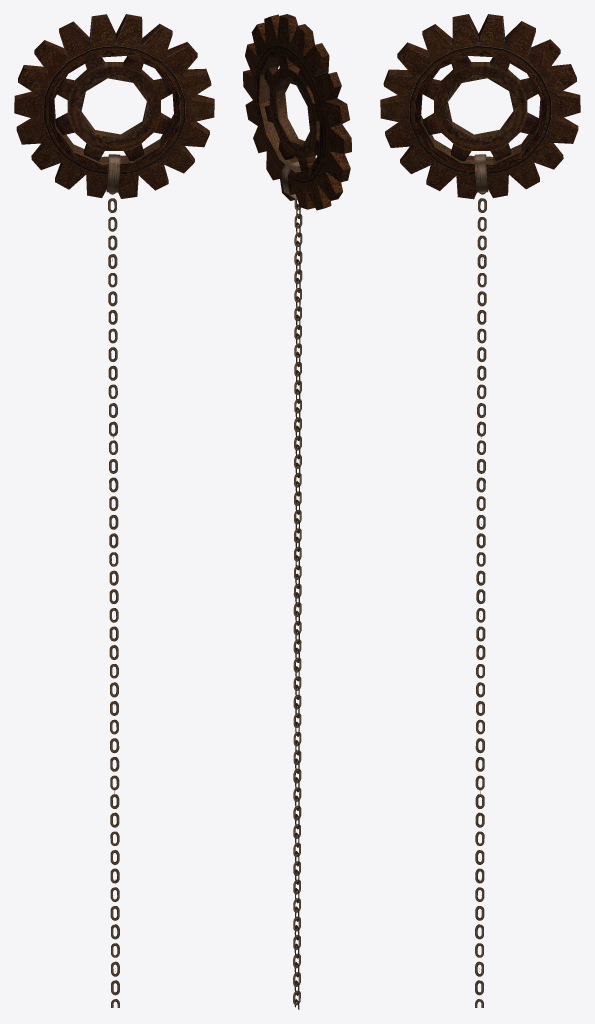
The model's file is gear_club2_6m.fbx.
3 views of the same model, side by side, from view 1: azimuth 90°, elevation 25°; view 2: azimuth 210°, elevation 25°; view 3: azimuth 270°, elevation 25° (orthographic).
Parts seen in each view (by area): view 1: mesh_0, mesh_1; view 2: mesh_0, mesh_1; view 3: mesh_0, mesh_1.
Boxes of the visible parts, x1,y1,x2,y2 form: mesh_0: (14,14,214,198); mesh_1: (106,154,120,1007); mesh_0: (243,14,351,210); mesh_1: (282,161,302,1009); mesh_0: (380,14,580,199); mesh_1: (474,154,488,1007).
Size of the model in its own units: 20.78 by 736 by 135.
Materials: 2 (2 with a texture image).
